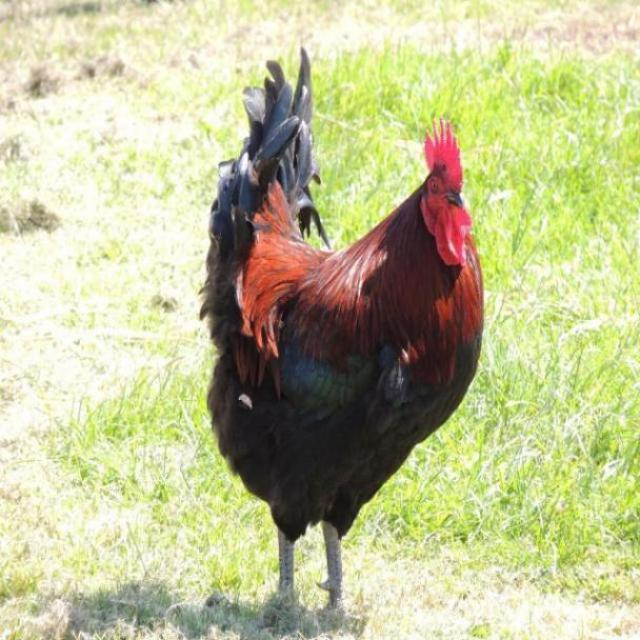Chicken: (192, 62, 483, 623)
